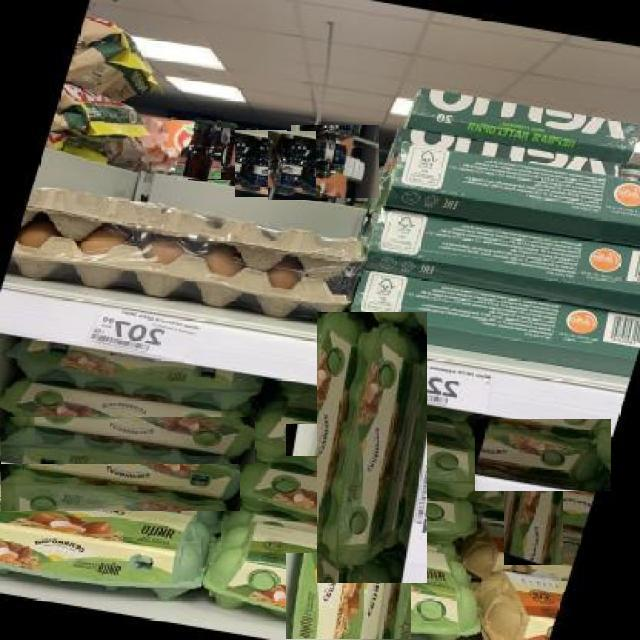Egg: (0, 471, 224, 610), (316, 312, 427, 583), (285, 424, 411, 640), (219, 456, 489, 553), (0, 372, 255, 464), (0, 415, 240, 511), (0, 337, 264, 417), (474, 419, 611, 491), (455, 519, 581, 592), (460, 567, 567, 640), (503, 441, 563, 565), (290, 125, 379, 198), (188, 128, 258, 180), (235, 130, 287, 197), (267, 130, 316, 200), (171, 112, 221, 179)
